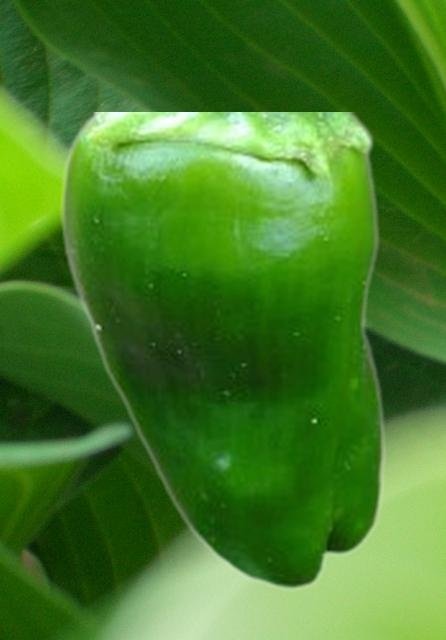green_chili: (58, 112, 384, 590)
